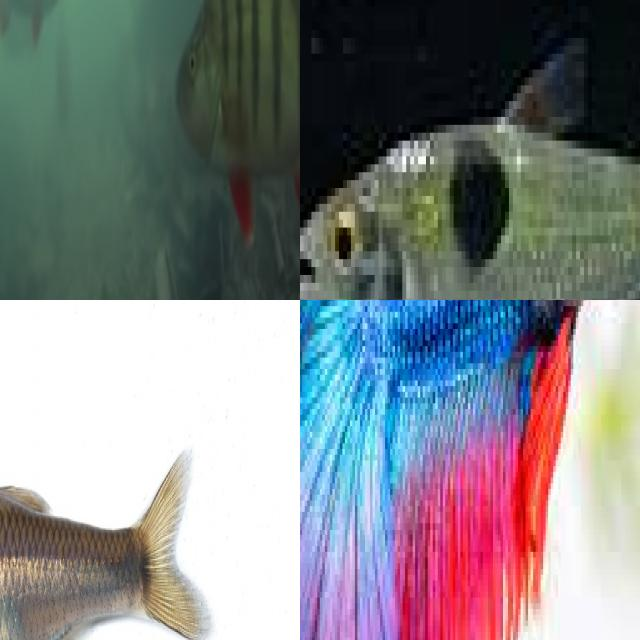fish: (300, 0, 640, 300), (300, 357, 640, 640), (0, 0, 300, 300), (0, 443, 211, 640)
